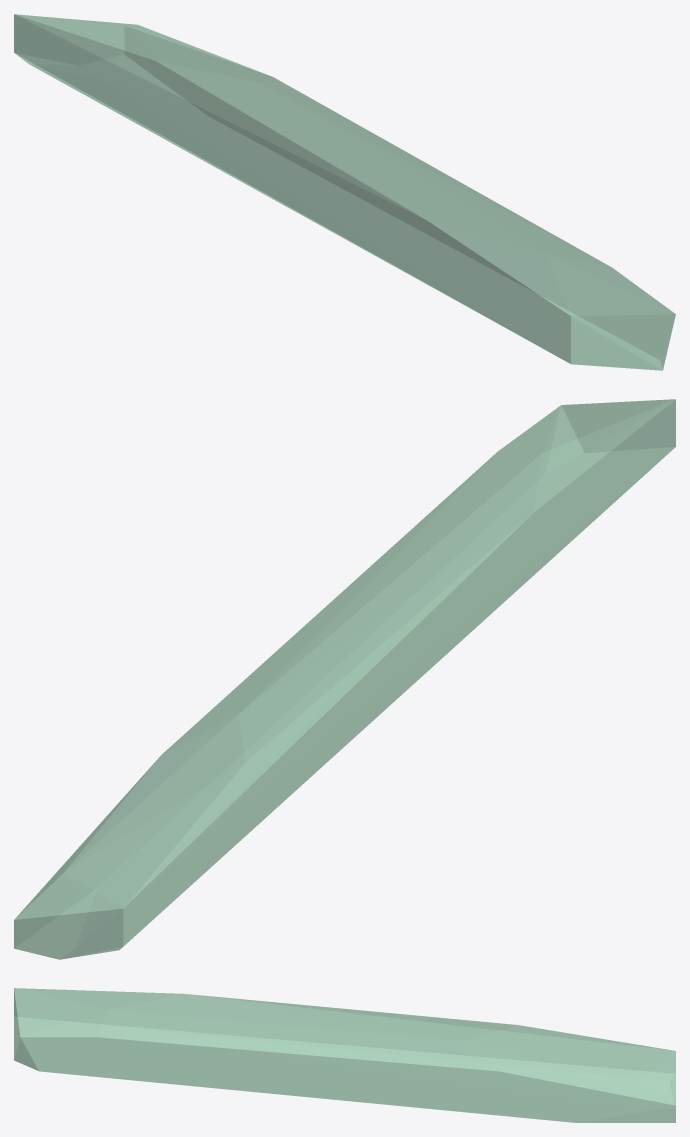
3 views of the same model, one above another, from view 1: azimuth 30°, elevation 25°; view 2: azimuth 150°, elevation 25°; view 3: azimuth 270°, elevation 25° (orthographic). The views are drawn at different scales.
Visible parts, largest first — view 1: Shape_IndexedFaceSet.018_Shape_IndexedFaceSet.1983; view 2: Shape_IndexedFaceSet.018_Shape_IndexedFaceSet.1983; view 3: Shape_IndexedFaceSet.018_Shape_IndexedFaceSet.1983.
Part boxes in pixels (x1,y1,x2,y2): Shape_IndexedFaceSet.018_Shape_IndexedFaceSet.1983: (14,14,675,370); Shape_IndexedFaceSet.018_Shape_IndexedFaceSet.1983: (14,399,675,959); Shape_IndexedFaceSet.018_Shape_IndexedFaceSet.1983: (14,988,675,1122).
Bounding box in the file's own units: 0.0638 × 0.0957 × 0.5584.
